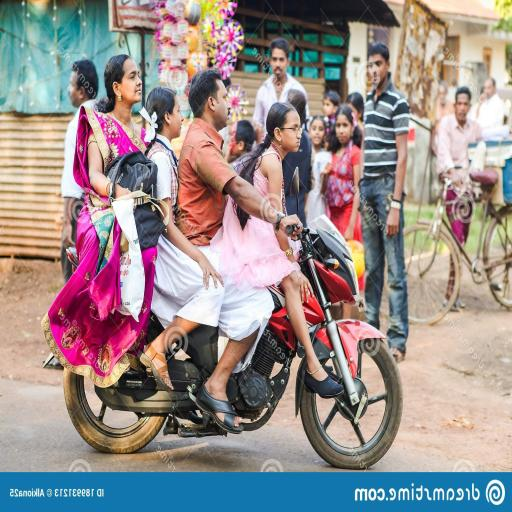overloading: (58, 170, 405, 469)
